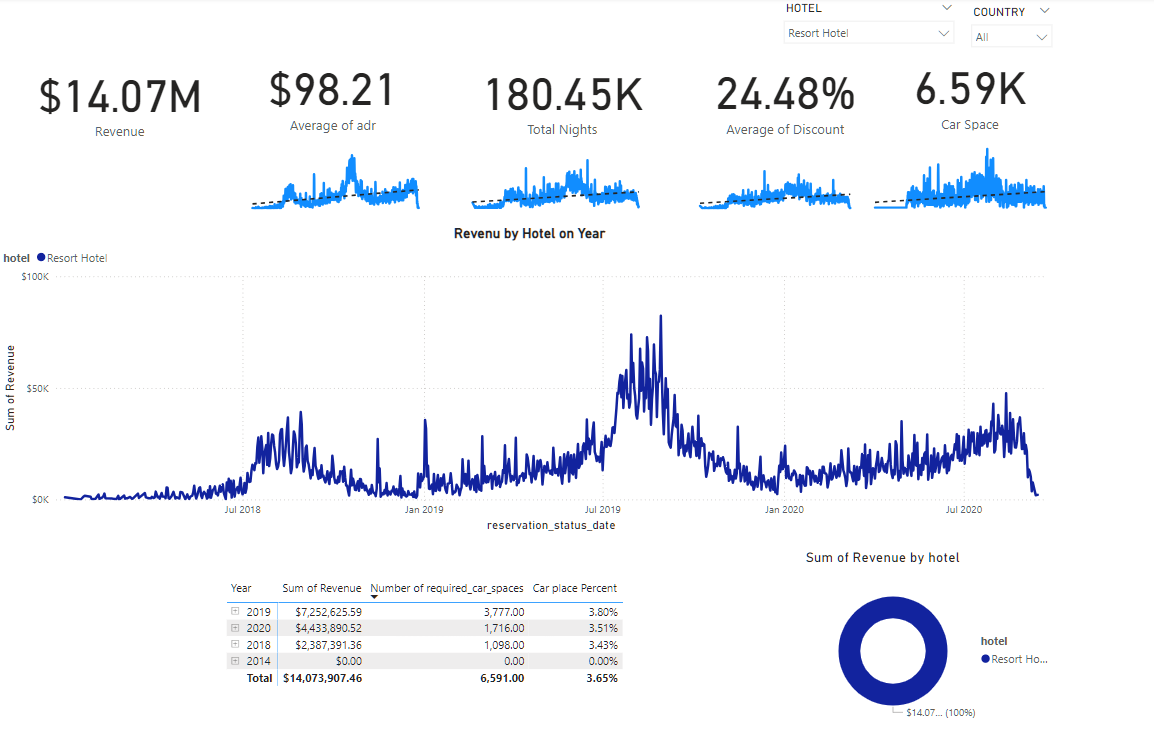

What the dashboard file says about the page in this screenshot:
{"tool":"powerbi","page":{"name":"Page 1","canvas":[1400,900],"ordinal":0},"visuals":[{"type":"card","fields":{"Values":["Sum(Query1.Revenue)"]},"box":[23.3,72.7,247,101.5],"z":0},{"type":"card","fields":{"Values":["Avg(Query1.adr)"]},"box":[285.4,57.6,236,116.6],"z":1000},{"type":"card","fields":{"Values":["Query1.Total Night"]},"box":[557.1,57.6,247,127.6],"z":2000},{"type":"card","fields":{"Values":["Avg(Query1.Discount)"]},"box":[830.2,57.6,236,126.2],"z":3000},{"type":"lineChart","title":"Revenu by Hotel on Year","fields":{"Y":["Sum(Query1.Revenue)"],"Category":["Query1.reservation_status_date"],"Series":["Query1.hotel"]},"box":[0,274.5,1280.3,375.5],"z":4000},{"type":"slicer","fields":{"Values":["Query1.country"]},"box":[1162.3,4.1,118,81],"z":5000},{"type":"slicer","title":"HOTEL","fields":{"Values":["Query1.hotel"]},"box":[936.5,0,226.2,72.4],"z":6000},{"type":"card","fields":{"Values":["Sum(Query1.required_car_parking_spaces)"]},"box":[1064.7,63.3,214.1,102.5],"z":7000},{"type":"lineChart","fields":{"Category":["Query1.reservation_status_date"],"Y":["Sum(Query1.adr)"]},"box":[290.9,174.3,230.5,86.4],"z":8000},{"type":"lineChart","fields":{"Category":["Query1.reservation_status_date"],"Y":["Query1.Total Night"]},"box":[557.1,170.2,230.5,90.6],"z":9000},{"type":"lineChart","fields":{"Category":["Query1.reservation_status_date"],"Y":["Sum(Query1.Discount)"]},"box":[830.2,174.3,211.3,86.4],"z":10000},{"type":"lineChart","fields":{"Category":["Query1.reservation_status_date"],"Y":["Sum(Query1.required_car_parking_spaces)"]},"box":[1041.5,166,236,94.7],"z":11000},{"type":"donutChart","fields":{"Category":["Query1.hotel"],"Y":["Sum(Query1.Revenue)"]},"box":[968.2,665.1,312.2,229.2],"z":12000},{"type":"pivotTable","fields":{"Rows":["Query1.reservation_status_date.Variation.Date Hierarchy.Year","Query1.hotel"],"Values":["Sum(Query1.Revenue)","Sum(Query1.required_car_parking_spaces)","Query1.Car place Percent"]},"box":[269.9,696.7,541.4,187],"z":13000}]}

Visuals, with their boxes in screenshot pixels (x1, y1, x2, y2), scaled from the page's 1400x900 canvas onto the 1154x742 screenshot:
card - Sum(Query1.Revenue): left=19, top=60, right=223, bottom=144
card - Avg(Query1.adr): left=235, top=47, right=430, bottom=144
card - Query1.Total Night: left=459, top=47, right=663, bottom=153
card - Avg(Query1.Discount): left=684, top=47, right=879, bottom=152
"Revenu by Hotel on Year" lineChart: left=0, top=226, right=1055, bottom=536
slicer - Query1.country: left=958, top=3, right=1055, bottom=70
"HOTEL" slicer: left=772, top=0, right=958, bottom=60
card - Sum(Query1.required_car_parking_spaces): left=878, top=52, right=1054, bottom=137
lineChart - Query1.reservation_status_date x Sum(Query1.adr): left=240, top=144, right=430, bottom=215
lineChart - Query1.reservation_status_date x Query1.Total Night: left=459, top=140, right=649, bottom=215
lineChart - Query1.reservation_status_date x Sum(Query1.Discount): left=684, top=144, right=858, bottom=215
lineChart - Query1.reservation_status_date x Sum(Query1.required_car_parking_spaces): left=858, top=137, right=1053, bottom=215
donutChart - Query1.hotel x Sum(Query1.Revenue): left=798, top=548, right=1055, bottom=737
pivotTable - Query1.reservation_status_date.Variation.Date Hierarchy.Year x Query1.hotel: left=222, top=574, right=669, bottom=729
